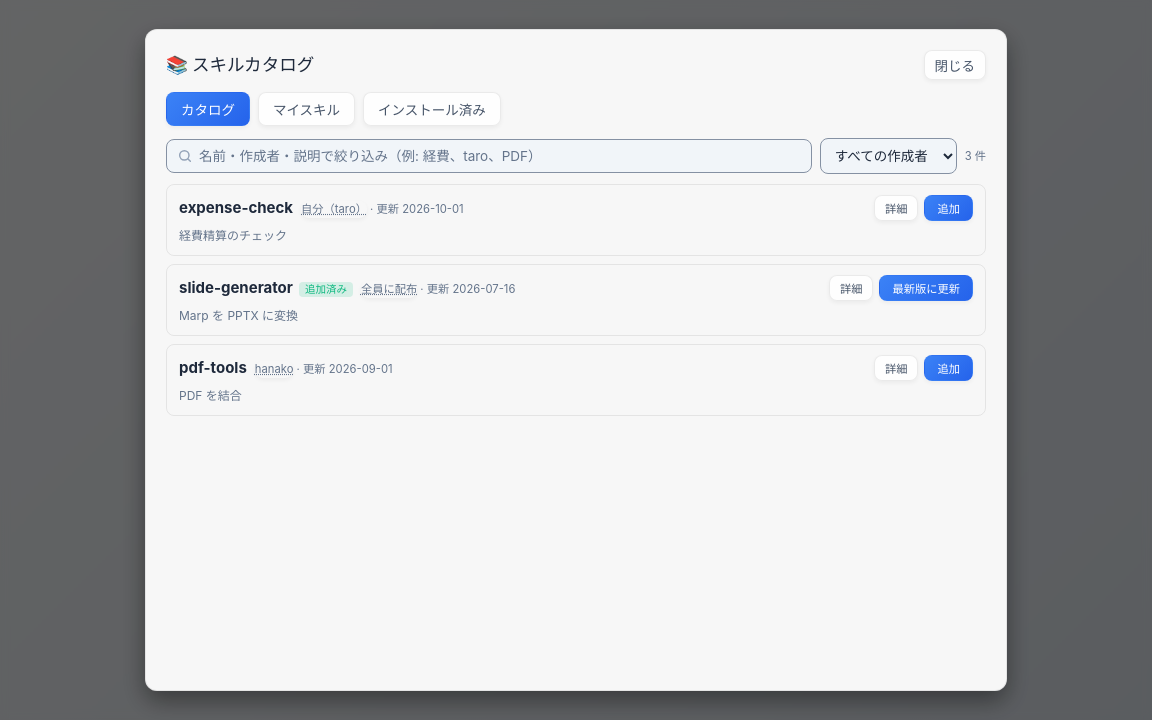
Test case: create › without a running session it says so and stays open
Expected: the text "expense-check" is shown, [179,198,293,217]
Click the button "マイスキル" at (307, 109), box [258,92,355,126]
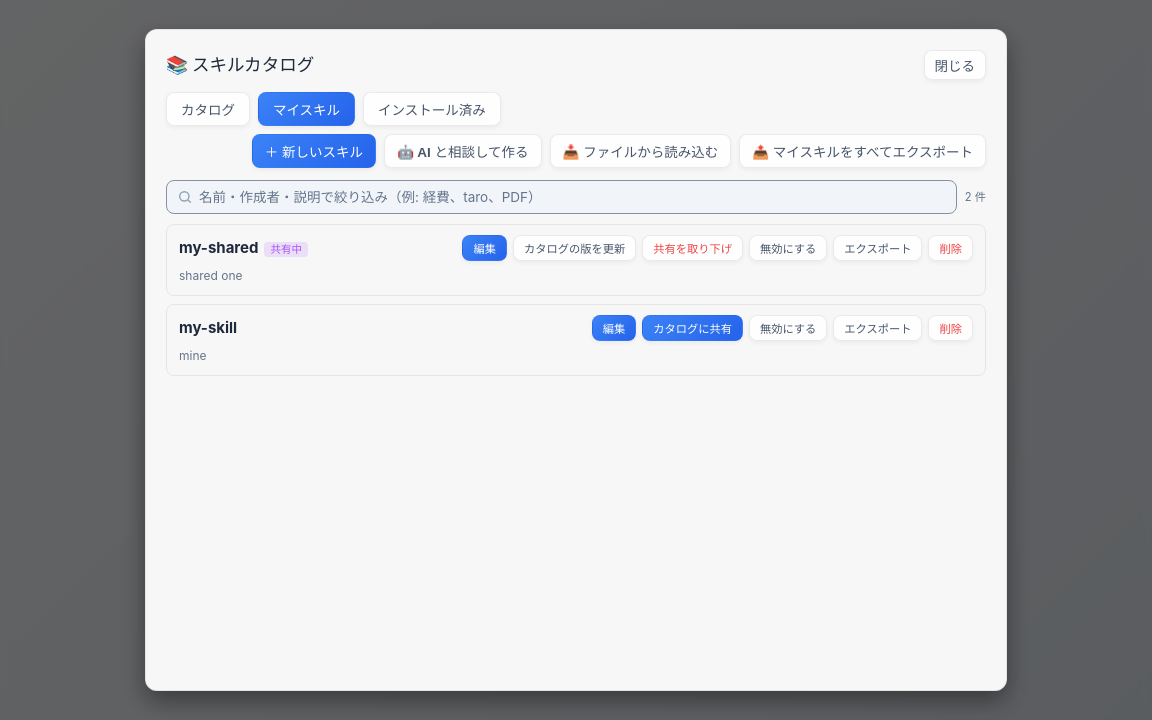
Expected: the text "my-skill" is shown, [179,318,237,337]
Click the button "🤖 AI と相談して作る" at (463, 151), box [384,134,542,168]
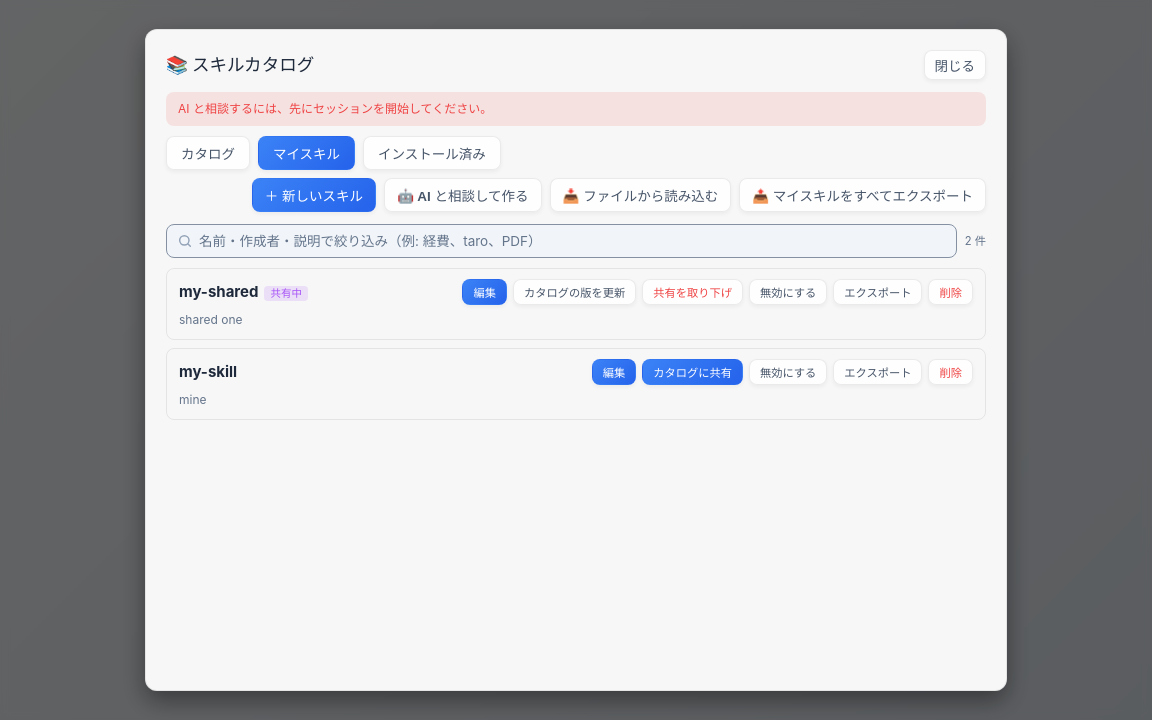
Expected: the text "AI と相談するには、先にセッションを開始してください。" is shown, [166,92,986,126]
